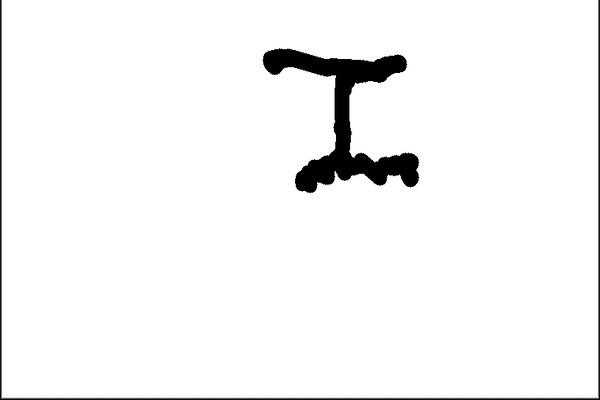i: (244, 40, 437, 197)
